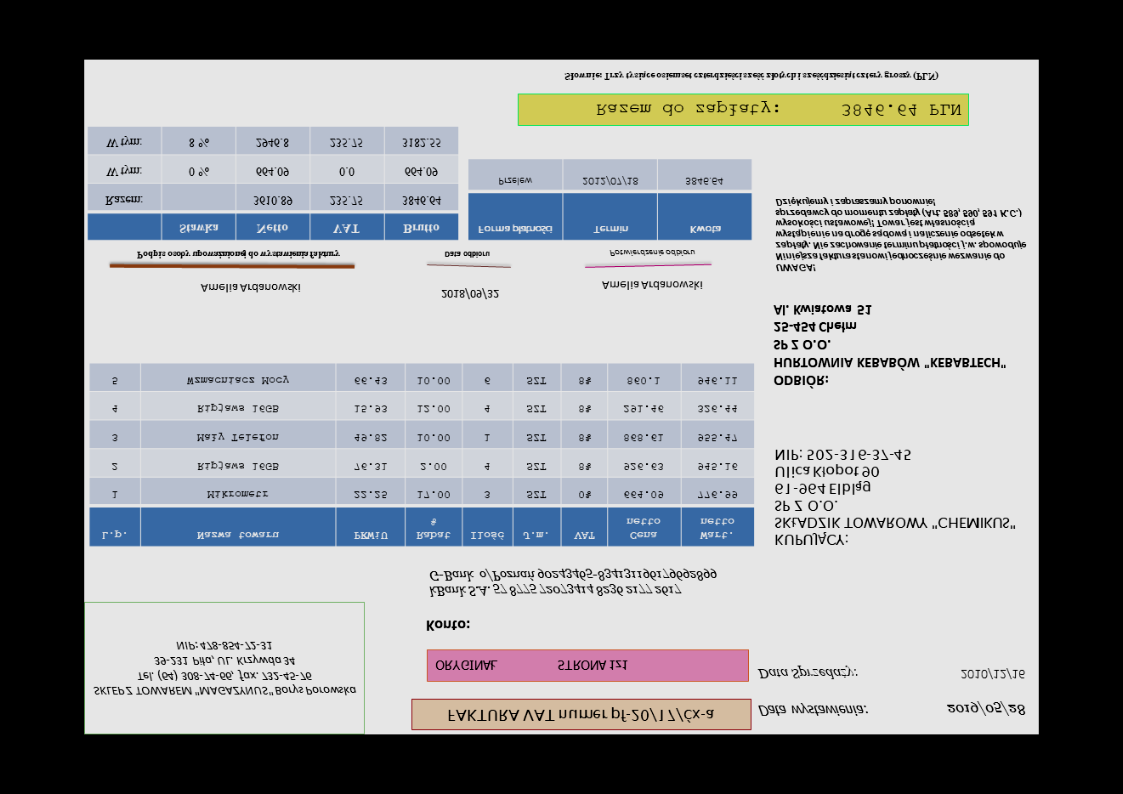Table: (87, 362, 756, 548), (86, 126, 458, 242), (467, 158, 752, 241)
TextBox: (771, 446, 1018, 549), (772, 302, 1009, 390), (773, 196, 1029, 275), (92, 639, 358, 699), (427, 566, 720, 599), (594, 99, 962, 118), (445, 706, 717, 725), (563, 70, 939, 83), (434, 657, 630, 673), (134, 248, 340, 262), (757, 700, 869, 721), (756, 665, 859, 682), (944, 700, 1027, 718), (199, 281, 302, 295), (600, 280, 704, 292), (607, 247, 697, 259), (959, 667, 1026, 682), (440, 286, 500, 301), (424, 617, 470, 634), (442, 249, 490, 260)
